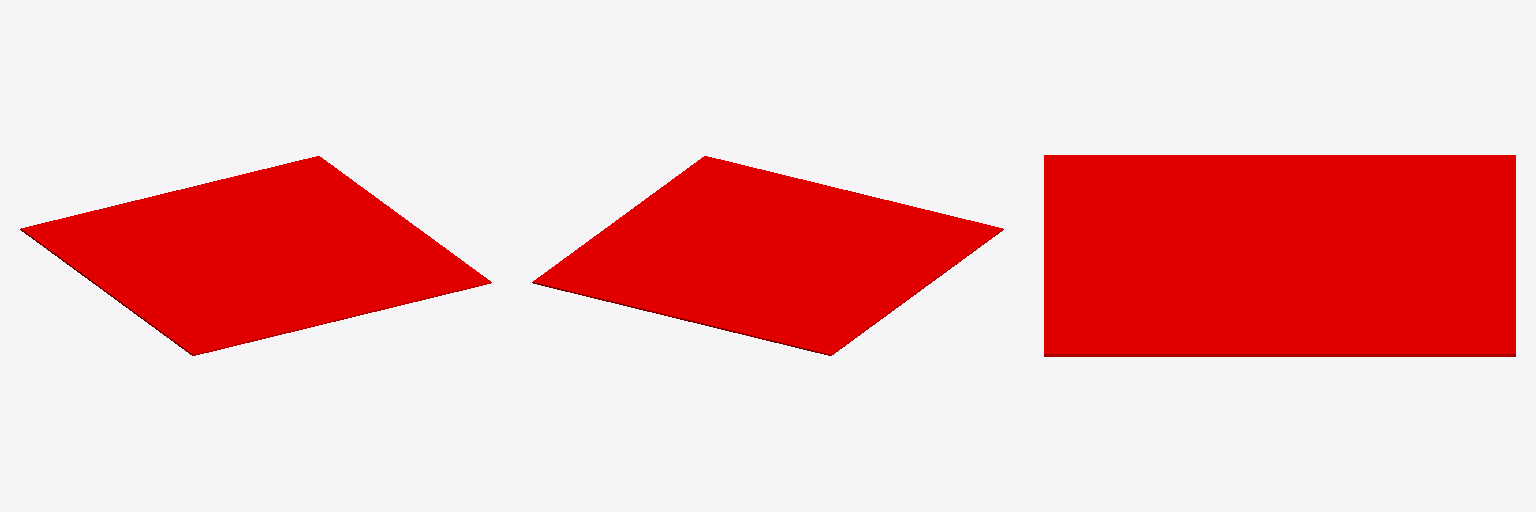
The robot description file, URDF, robot "zone":
<robot name="zone">
  <link name="zone">

    <inertial>
      <origin xyz="0 0 0" />
      <mass value="0.1" />
      <inertia  ixx="0.00003375" ixy="0.0"  ixz="0.0"  iyy="0.00003375"  iyz="0.0"  izz="0.00003375" />
    </inertial>

    <visual>
      <origin xyz="0 0 0"/>
      <geometry>
        <box size="0.2 0.2 0.001" />
      </geometry>
      <material name="red">
        <color rgba="1 0 0 1.0"/>
      </material>
    </visual>

  </link>
</robot>

--- Facts derived from the render (not from the file) ---
3 views of the same robot in one strip: view 1: azimuth 30°, elevation 25°; view 2: azimuth 150°, elevation 25°; view 3: azimuth 270°, elevation 25° (orthographic).
Model zone with 1 links and 0 joints (none), rooted at zone, posed all joints at 0.
Links seen in each view (by area): view 1: zone; view 2: zone; view 3: zone.
Link boxes in pixels (x1,y1,x2,y2): zone: (20, 156, 491, 355); zone: (532, 156, 1003, 355); zone: (1044, 155, 1515, 356).
Bounding box of the posed robot: 0.2 × 0.2 × 0.001 m (x, y, z).
Geometry: primitives only (box / cylinder / sphere), no mesh files.
